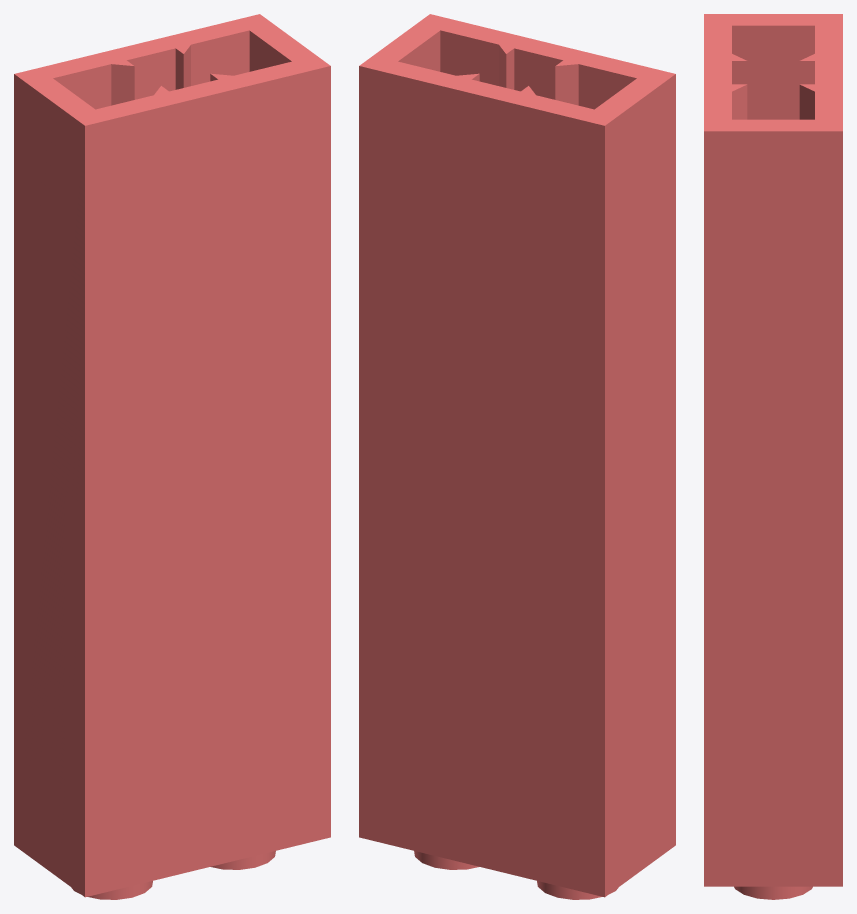
The picture shows the model from 3 angles, left to right: view 1: azimuth 30°, elevation 25°; view 2: azimuth 150°, elevation 25°; view 3: azimuth 270°, elevation 25°; orthographic projection. The views are drawn at different scales.
Parts seen in each view (by area): view 1: LDrawPart; view 2: LDrawPart; view 3: LDrawPart.
Part boxes in pixels (bbox=[...]): LDrawPart: bbox=[14, 14, 330, 899]; LDrawPart: bbox=[359, 14, 675, 899]; LDrawPart: bbox=[704, 14, 842, 899].
Size of the model in its own units: 0.28 by 0.868 by 0.14.
